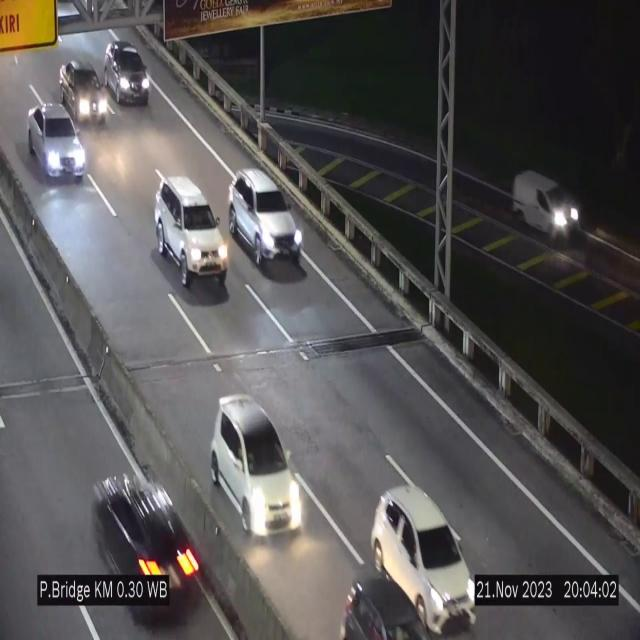Car: (92, 432, 204, 620), (373, 486, 479, 640), (211, 396, 303, 535), (506, 151, 590, 256), (154, 177, 228, 291), (330, 561, 432, 640), (228, 170, 304, 270), (28, 103, 86, 181), (54, 56, 112, 134), (103, 40, 150, 104)
